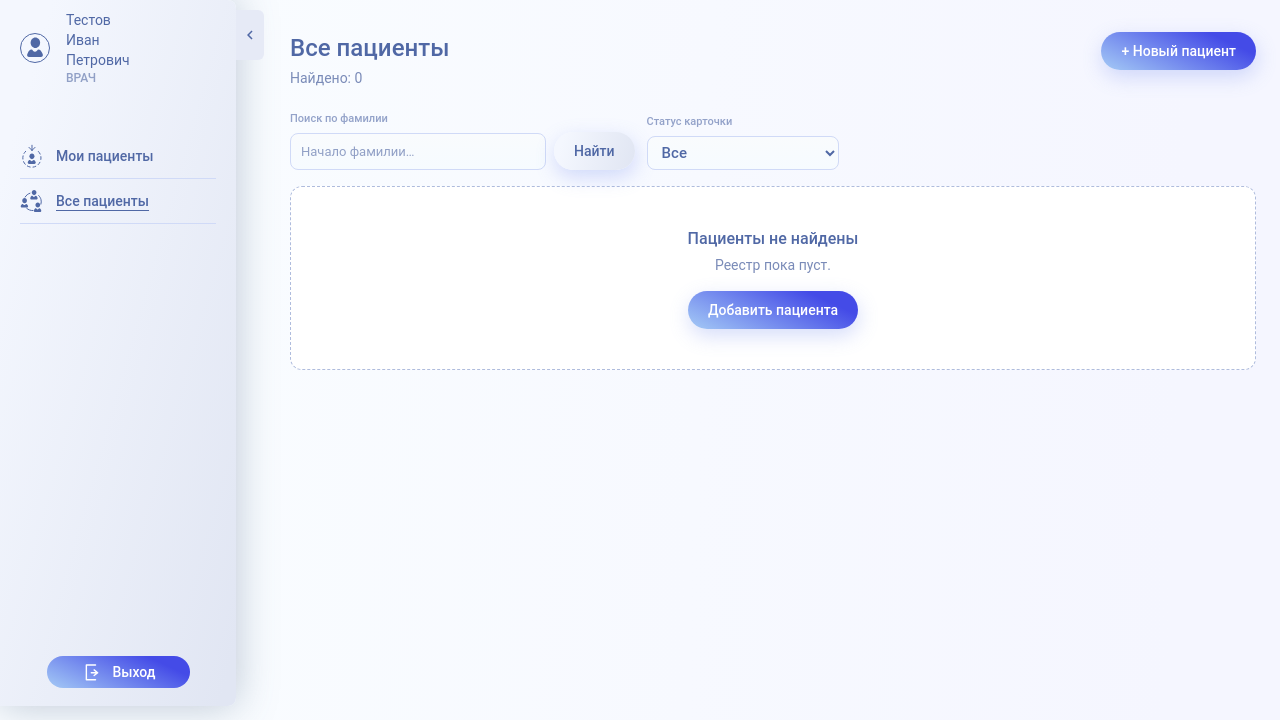
авторизация › выход отзывает токен и возвращает на страницу входа
The width and height of the screenshot is (1280, 720).
What coordinates should you click on to do the following:
click the button with aria-label "Выйти"
I would click on:
 (118, 672)
Its box is [46,656,190,688].
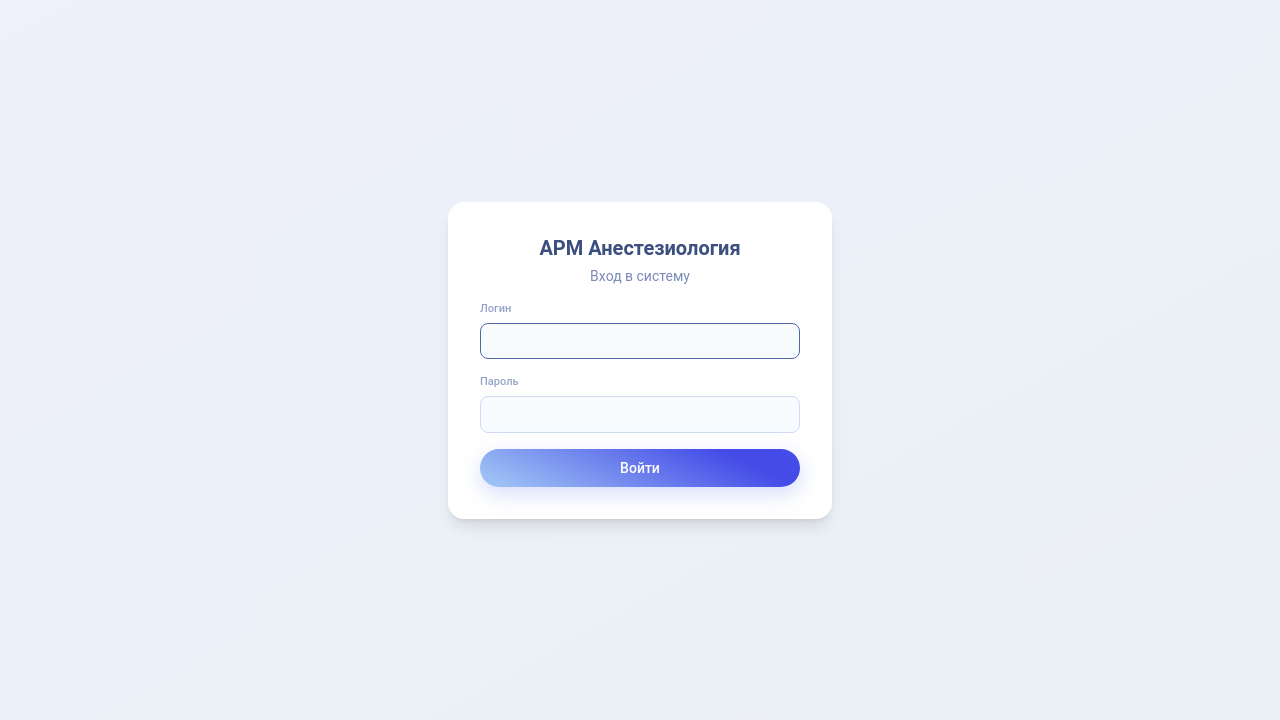
Check: the button "Войти" is shown, box [480,448,800,486]
